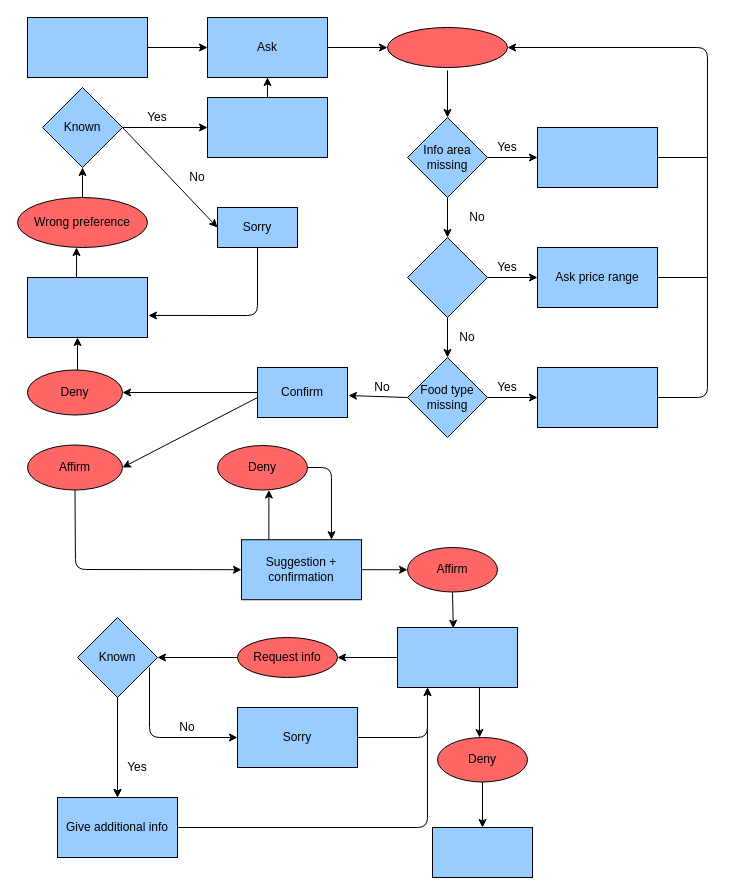
Some shapes in this 733 by 895 pixel diagram are drawn without their labels. The shapes that lost their labels are listed below. From the top down, each one's box as (x1, y1, x2, y2) in pixels, then its label:
(26, 16, 148, 78): Welcome
(386, 26, 508, 68): Express preferences
(206, 96, 328, 158): Remove wrong preference
(536, 126, 658, 188): Ask area
(406, 236, 488, 318): Price range missing
(26, 276, 148, 338): Ask what preference is wrong
(536, 366, 658, 428): Ask food type
(396, 626, 518, 688): More info?
(432, 826, 532, 878): Bye
